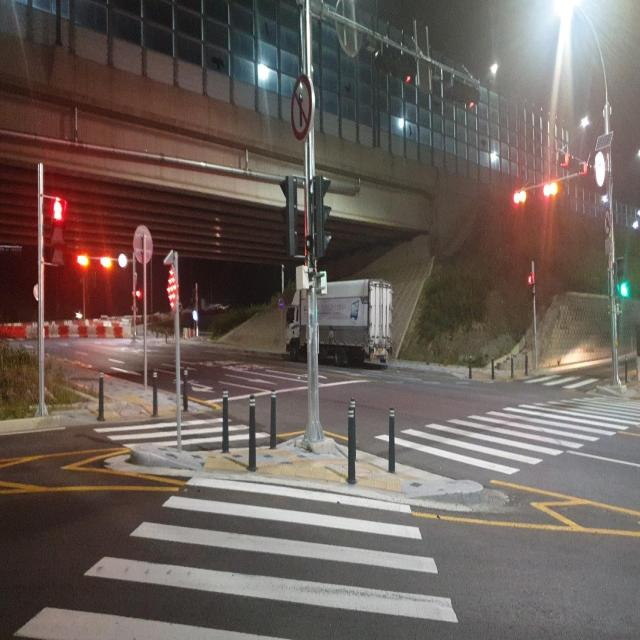초록불: (618, 256, 630, 300)
횡단보도: (9, 472, 462, 640), (376, 374, 640, 480)
